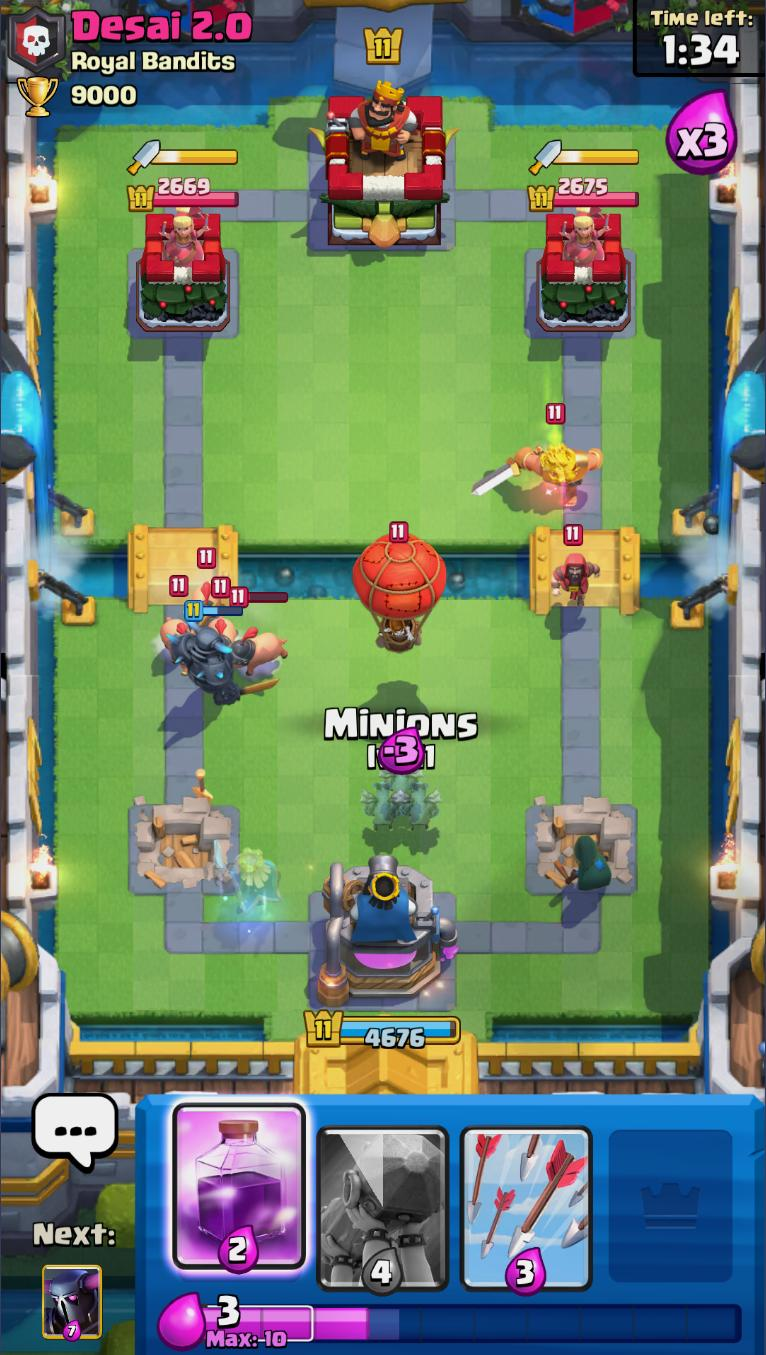Arrows: (455, 1095, 600, 1295)
Balloon: (351, 521, 449, 650)
BattleRamDeck: (310, 1094, 456, 1295)
DaggerDuchess: (559, 208, 613, 268), (158, 208, 210, 265)
Daggers: (127, 139, 240, 175), (530, 140, 642, 176)
Elixir: (200, 1296, 745, 1350)
Empty: (600, 1095, 740, 1295)
EnemyTower: (536, 209, 633, 333), (136, 207, 231, 332)
GoldenKnight: (471, 404, 604, 510)
KingTower: (310, 81, 461, 249)
MyBandit: (554, 838, 613, 891)
MyKingHP: (304, 1010, 463, 1049)
MyKingTower: (314, 855, 460, 1007)
MyPekka: (165, 601, 278, 707)
MyPrincessTowerBrocken: (524, 800, 640, 898), (129, 801, 243, 896)
MyRoyaleGhost: (211, 838, 285, 916)
PekkaNext: (40, 1264, 105, 1341)
RageDeck: (168, 1094, 311, 1295)
RoyalePig: (228, 586, 290, 675), (159, 575, 193, 650), (192, 548, 222, 628), (206, 576, 238, 644)
TowerPrincessHP: (127, 178, 240, 212), (529, 179, 641, 211)
Wizard: (549, 525, 603, 614)
